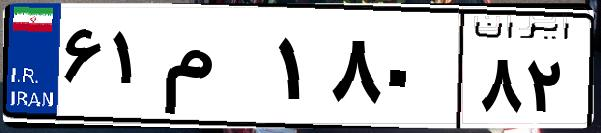0: (385, 28, 445, 110)
1: (270, 28, 330, 110), (110, 28, 158, 98)
2: (525, 38, 570, 115)
6: (57, 26, 110, 100)
8: (330, 28, 385, 110), (475, 38, 525, 113)
م: (158, 20, 270, 120)
